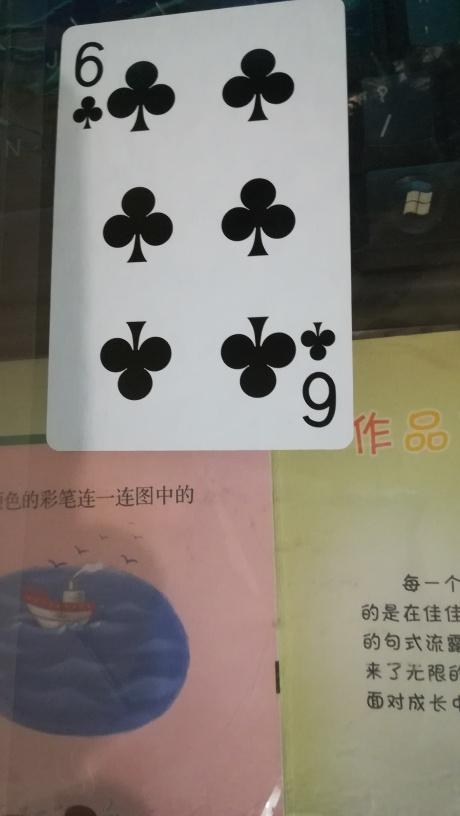mh 6: (47, 1, 356, 453)
